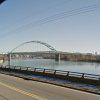Bridge: (5, 57, 100, 94), (8, 34, 87, 63)
